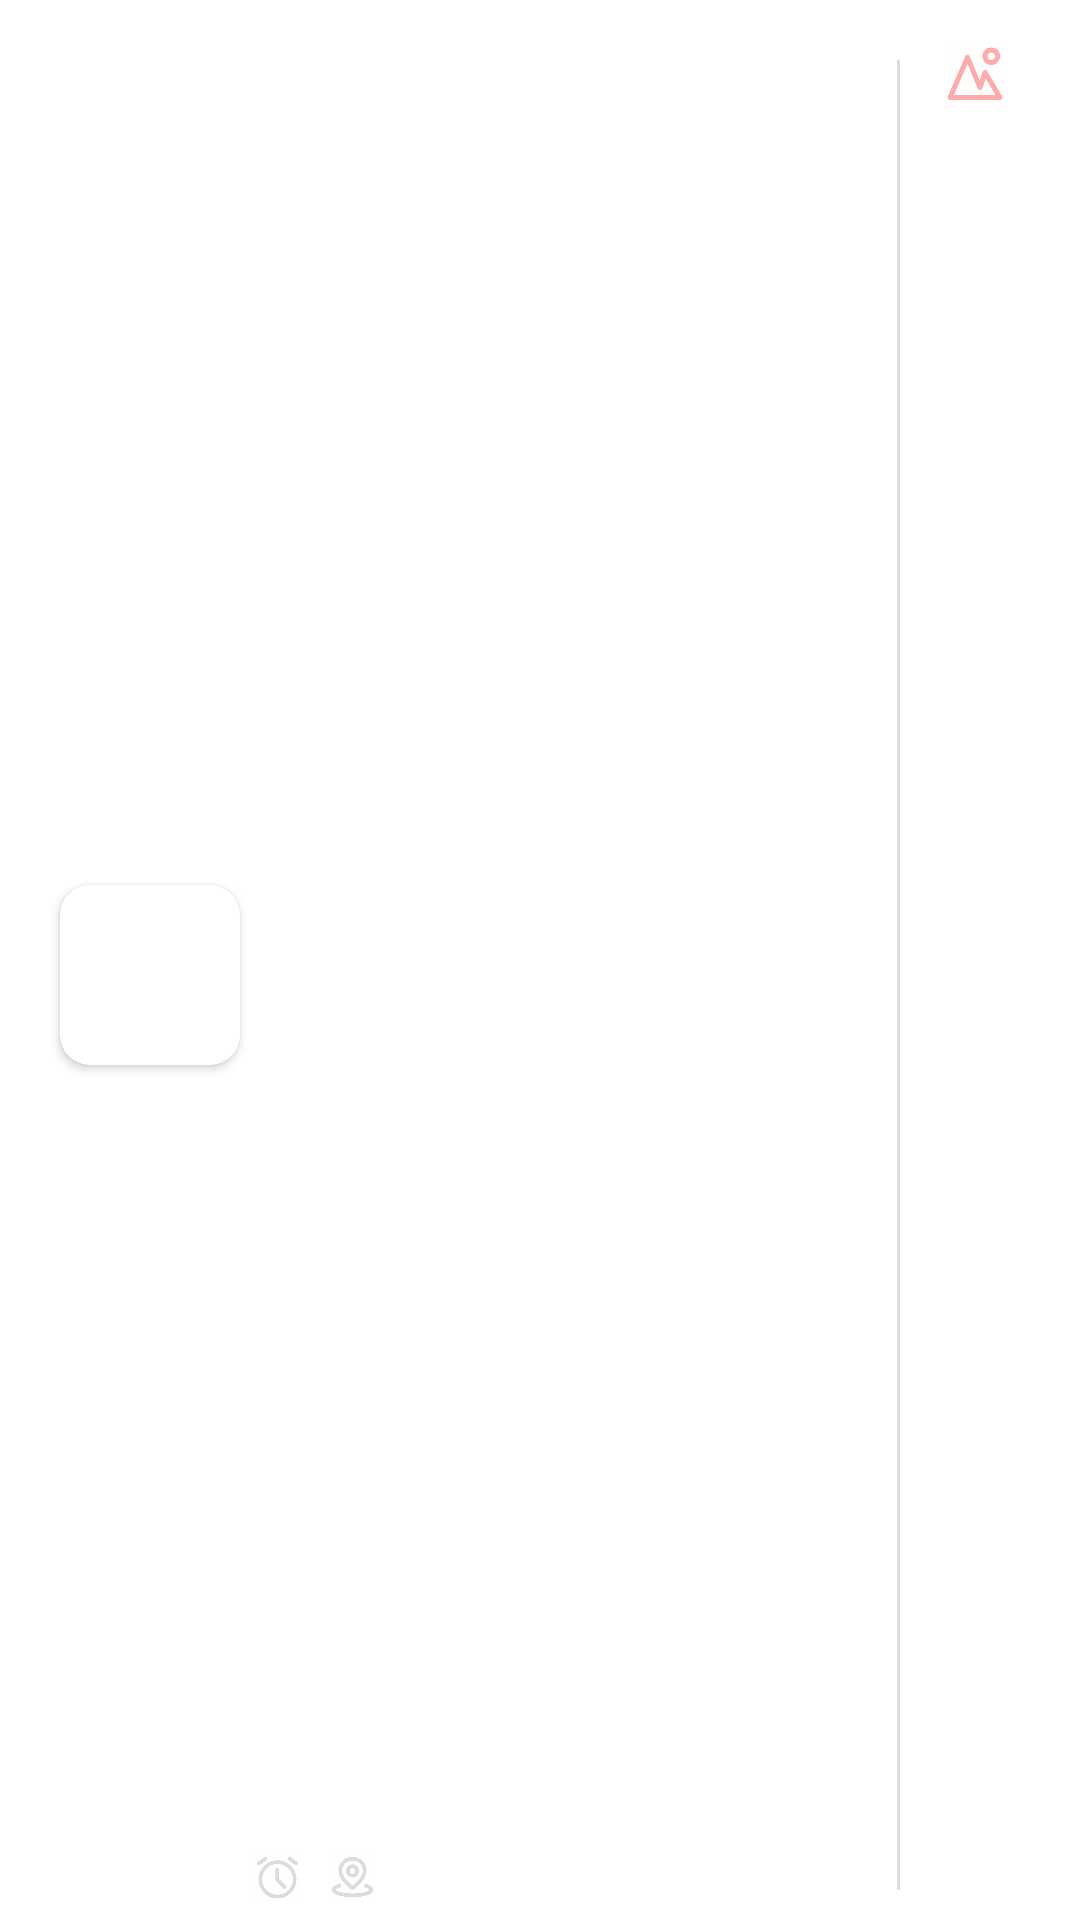

Icon bounding boxes for this 1080 × 1920 phone screenshot, format (x1, y1, x2, y2):
bai activity local: (332, 1857, 373, 1897)
bai activity time: (257, 1857, 298, 1898)
